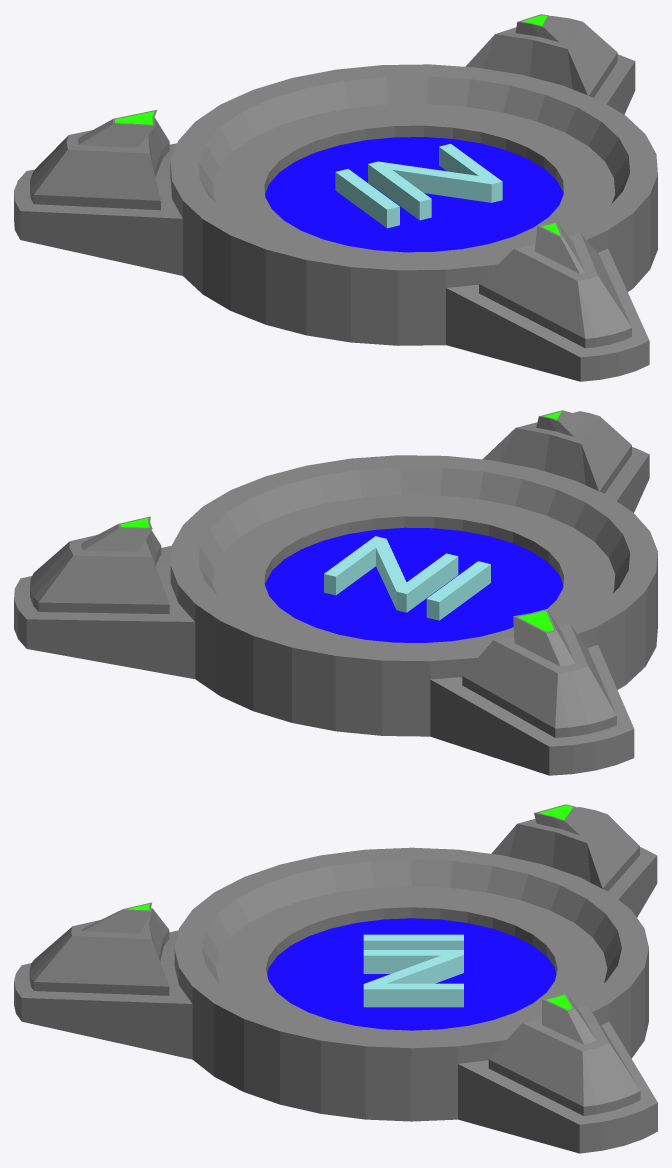
File: TeleporterIn.glb
3 views of the same model, one above another, from view 1: azimuth 30°, elevation 25°; view 2: azimuth 150°, elevation 25°; view 3: azimuth 270°, elevation 25° (orthographic). The views are drawn at different scales.
Parts seen in each view (by area): view 1: Cylinder, IN; view 2: Cylinder, IN; view 3: Cylinder, IN.
Part boxes in pixels (x1=…): Cylinder: x1=14, y1=14, x2=657, y2=381; IN: x1=335, y1=144, x2=502, y2=228; Cylinder: x1=14, y1=410, x2=657, y2=775; IN: x1=324, y1=536, x2=490, y2=620; Cylinder: x1=14, y1=804, x2=657, y2=1153; IN: x1=363, y1=934, x2=463, y2=1007.
Bounding box in the file's own units: 1.95 × 0.3596 × 1.82.
